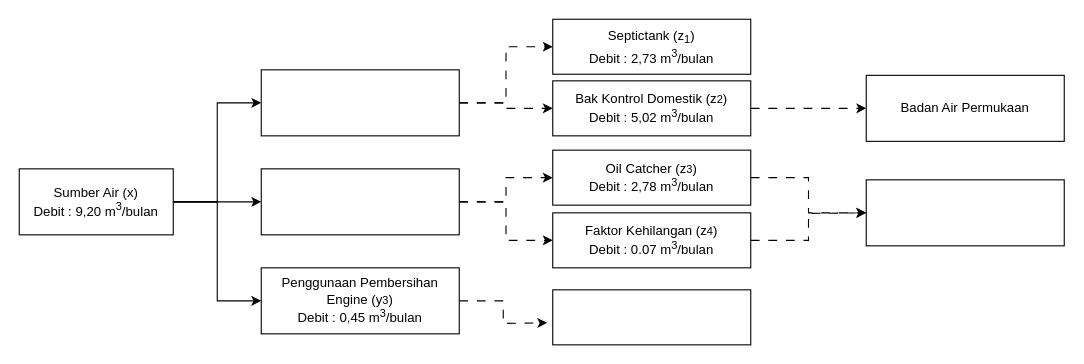
The diagram is 1084 pixels wide and 364 high, and some of its shapes have lost their labels. The shapes that lost their labels are listed below. From the top down, each one's box as (x1, y1, x2, y2) in pixels, then its label:
(260, 69, 459, 136): Penggunaan Domestik (y 1 ) Debit : 7,75 m 3 /bulan
(260, 168, 459, 235): Penggunaan Laboratorium (y 2 ) Debit : 1 m 3 /bulan
(865, 179, 1064, 246): Diangkut oleh PT Dame Alam Sejahtera
(552, 289, 751, 345): Menguap (z 5 ) Debit : 0.45 m 3 /bulan
